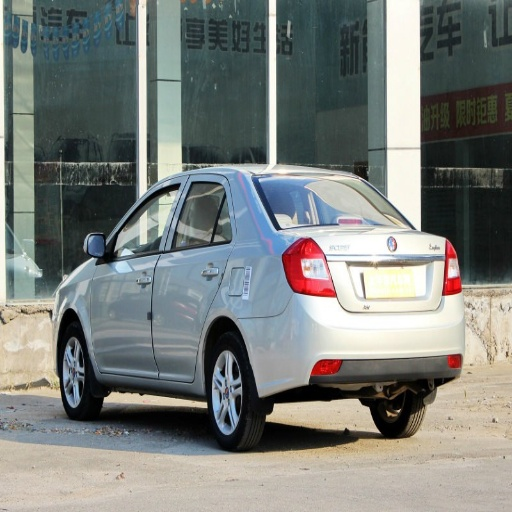back_bumper: (245, 292, 463, 397)
back_glass: (253, 175, 394, 226)
back_left_door: (153, 174, 235, 381)
